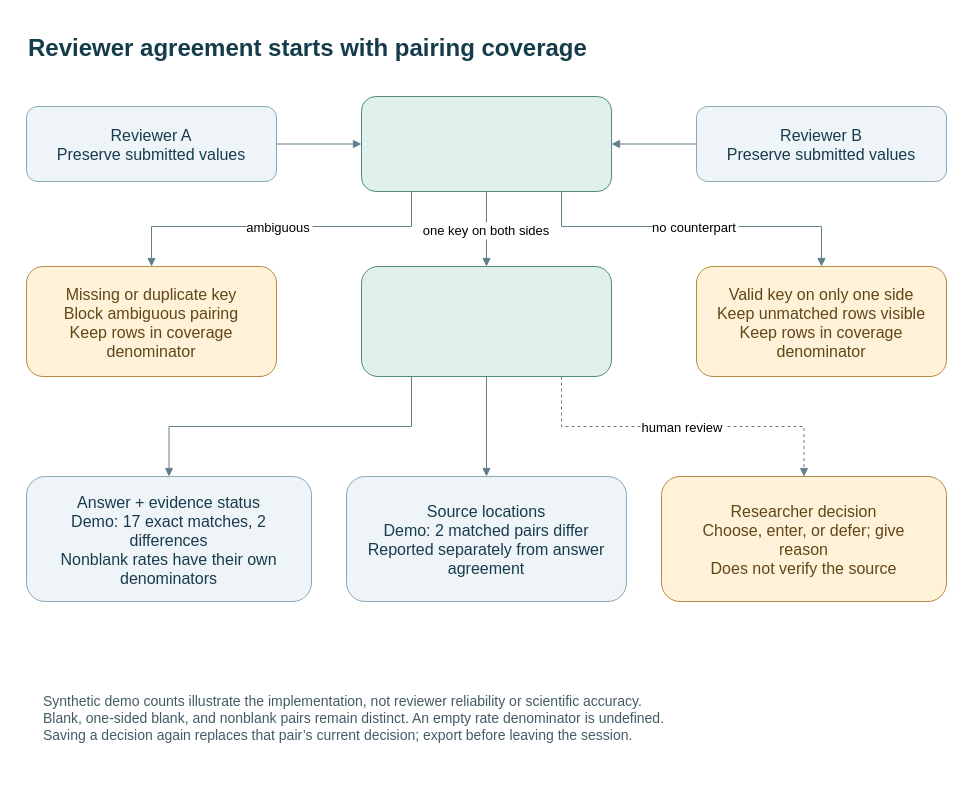
The diagram is 973 pixels wide and 803 high, and some of its shapes have lost their labels. The centre of each missing label's shape, as x and y in pixels:
"Comparable pairs Demo: 19 / 20 rows on each side 95% pairing coverage" goes at point (486, 321).
"Pair by report_id + field One nonblank key per side" goes at point (486, 144).
